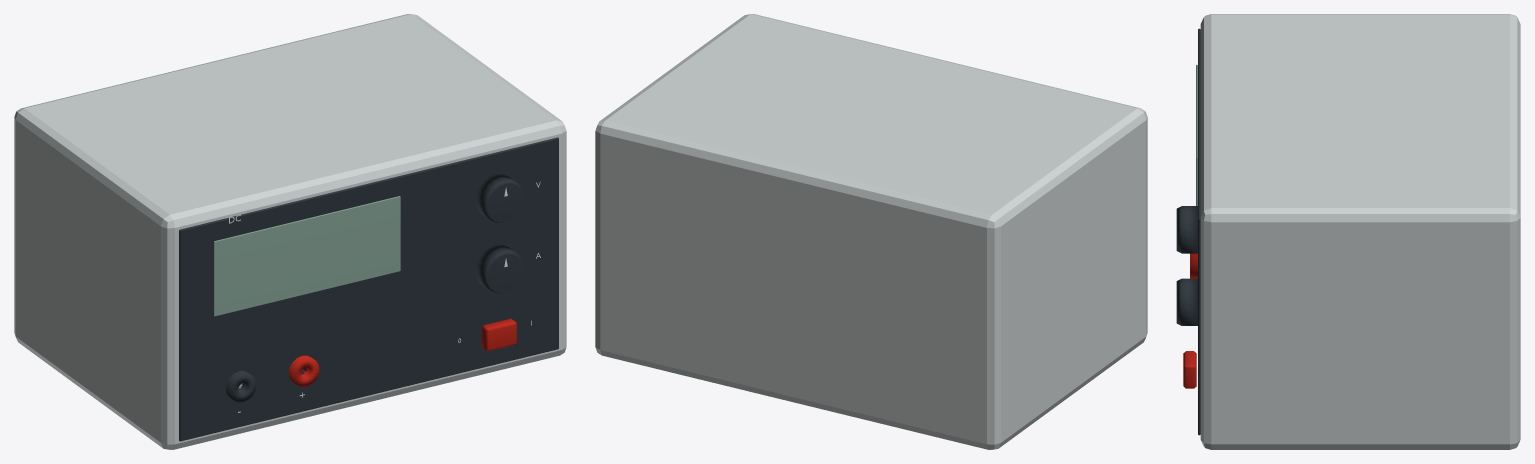
The model's file is VLAB_power_supply.fbx.
3 views of the same model, side by side, from view 1: azimuth 30°, elevation 25°; view 2: azimuth 150°, elevation 25°; view 3: azimuth 270°, elevation 25° (orthographic). The views are drawn at different scales.
Visible parts, largest first — view 1: VLAB_power_supply_Body_VIS, VLAB_power_supply_Display_VIS, VLAB_power_supply_KnobCurrent_VIS, VLAB_power_supply_KnobVoltage_VIS, VLAB_power_supply_Ports_VIS, VLAB_power_supply_Switch_VIS; view 2: VLAB_power_supply_Body_VIS; view 3: VLAB_power_supply_Body_VIS, VLAB_power_supply_KnobCurrent_VIS, VLAB_power_supply_KnobVoltage_VIS, VLAB_power_supply_Switch_VIS.
Boxes of the visible parts, x1,y1,x2,y2 form: VLAB_power_supply_Body_VIS: (14, 14, 566, 449); VLAB_power_supply_Display_VIS: (214, 196, 400, 316); VLAB_power_supply_KnobCurrent_VIS: (475, 244, 523, 293); VLAB_power_supply_KnobVoltage_VIS: (475, 174, 523, 222); VLAB_power_supply_Ports_VIS: (226, 355, 319, 402); VLAB_power_supply_Switch_VIS: (481, 318, 516, 351); VLAB_power_supply_Body_VIS: (595, 14, 1147, 449); VLAB_power_supply_Body_VIS: (1198, 14, 1520, 449); VLAB_power_supply_KnobCurrent_VIS: (1176, 278, 1197, 325); VLAB_power_supply_KnobVoltage_VIS: (1176, 206, 1197, 253); VLAB_power_supply_Switch_VIS: (1183, 351, 1196, 388).
Size of the model in its own units: 0.18 by 0.1 by 0.1291.
